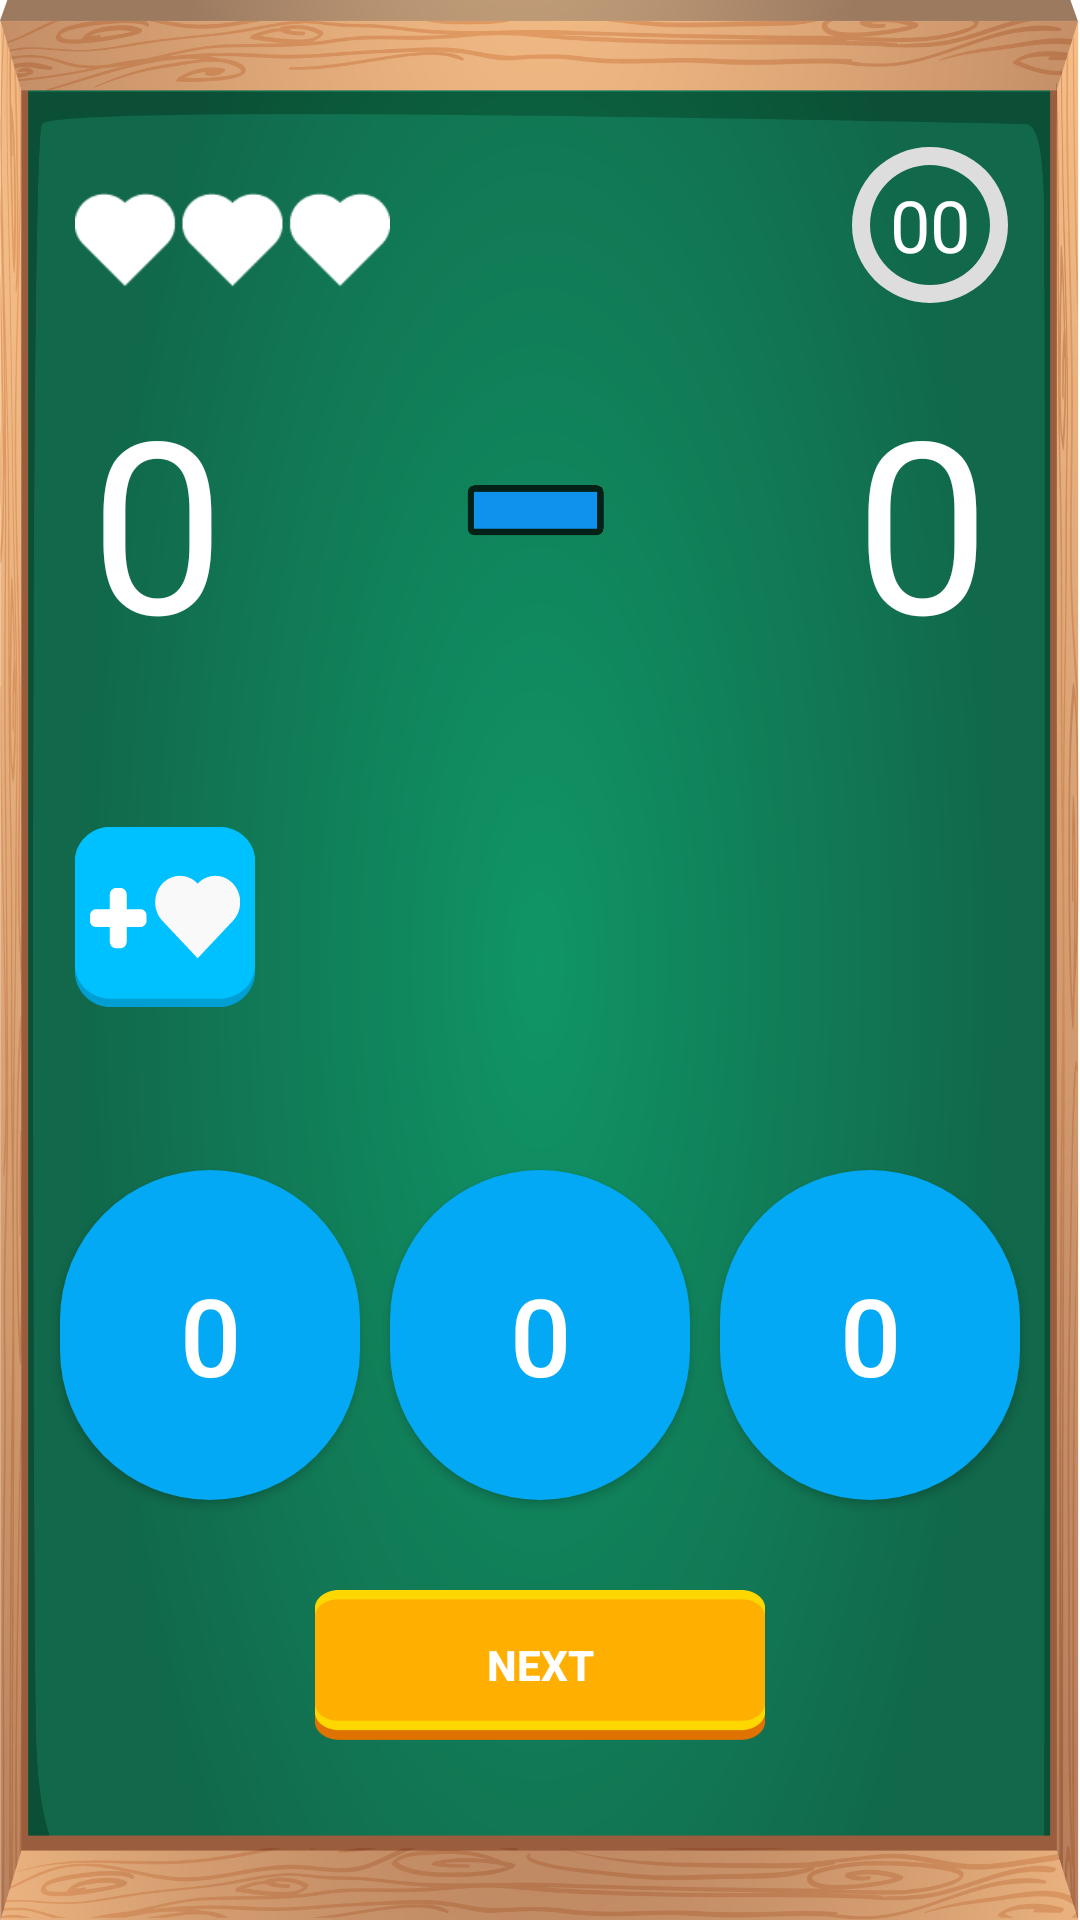

Where to tap for icons on this 1080 x 1920 app screen, as [x,y]:
lifes: [232,239]
